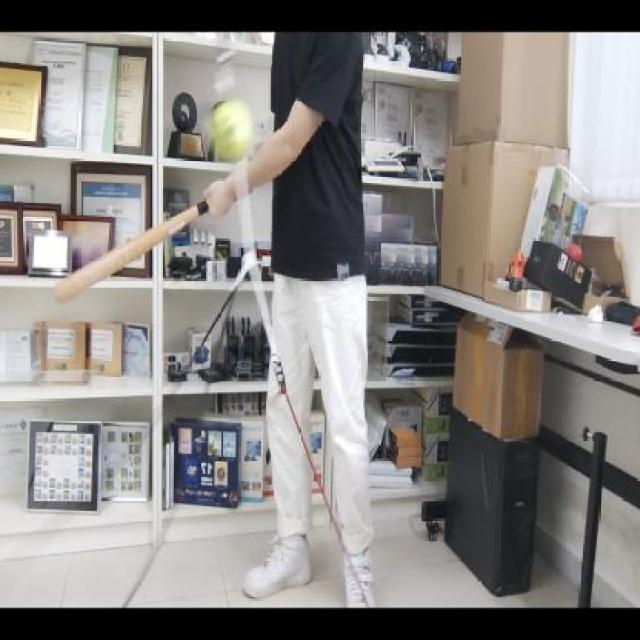baseball: (210, 100, 256, 166)
